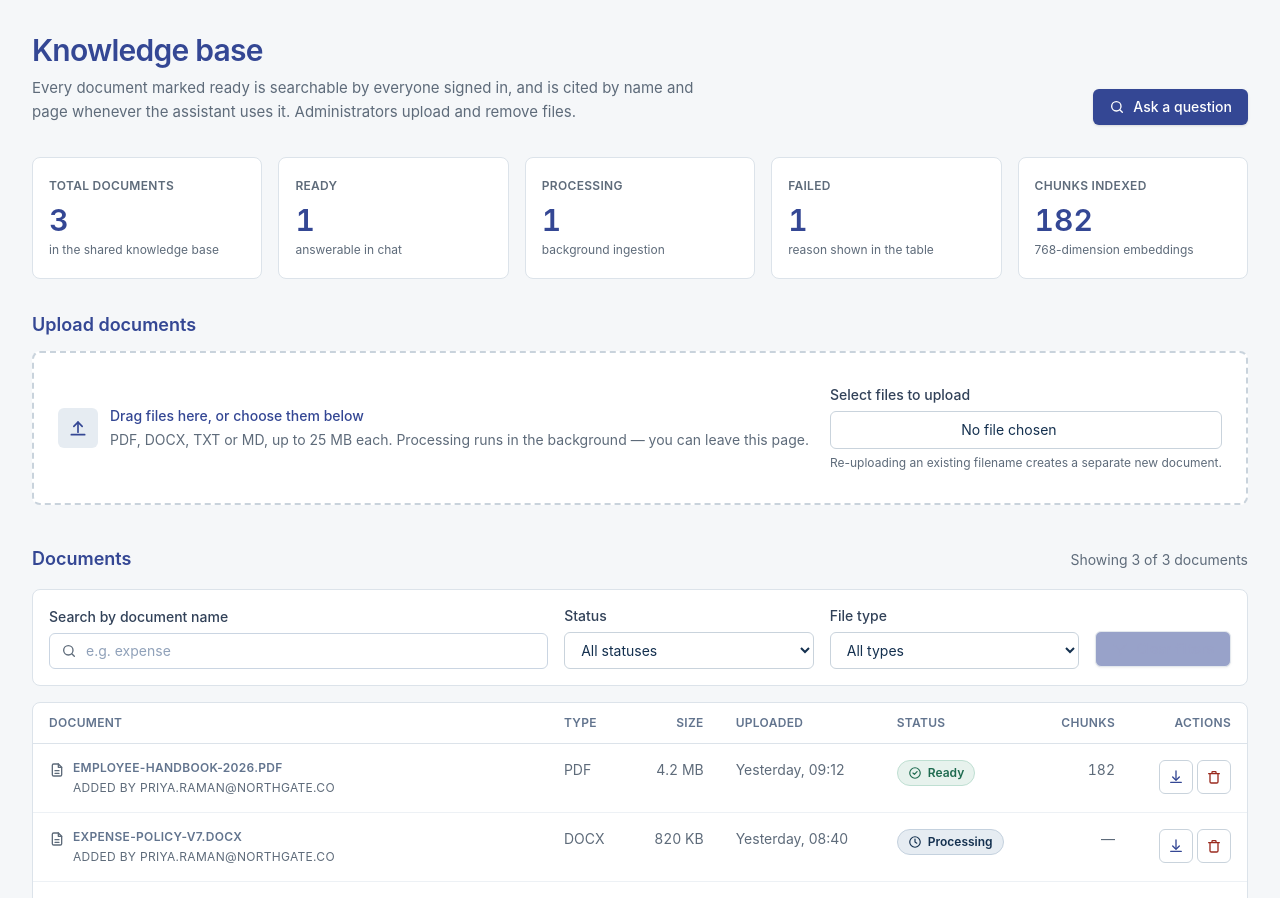
Test case: KnowledgeBase screen › AC-048: filtering by status and by file type narrows the list, and clearing restores it
The width and height of the screenshot is (1280, 898).
Expected: the text "Employee-Handbook-2026.pdf" is shown, top-left (73, 760), bottom-right (283, 775)
Select "Failed" in the dropdown labelled "Status": (689, 650) top-left (564, 632), bottom-right (814, 669)
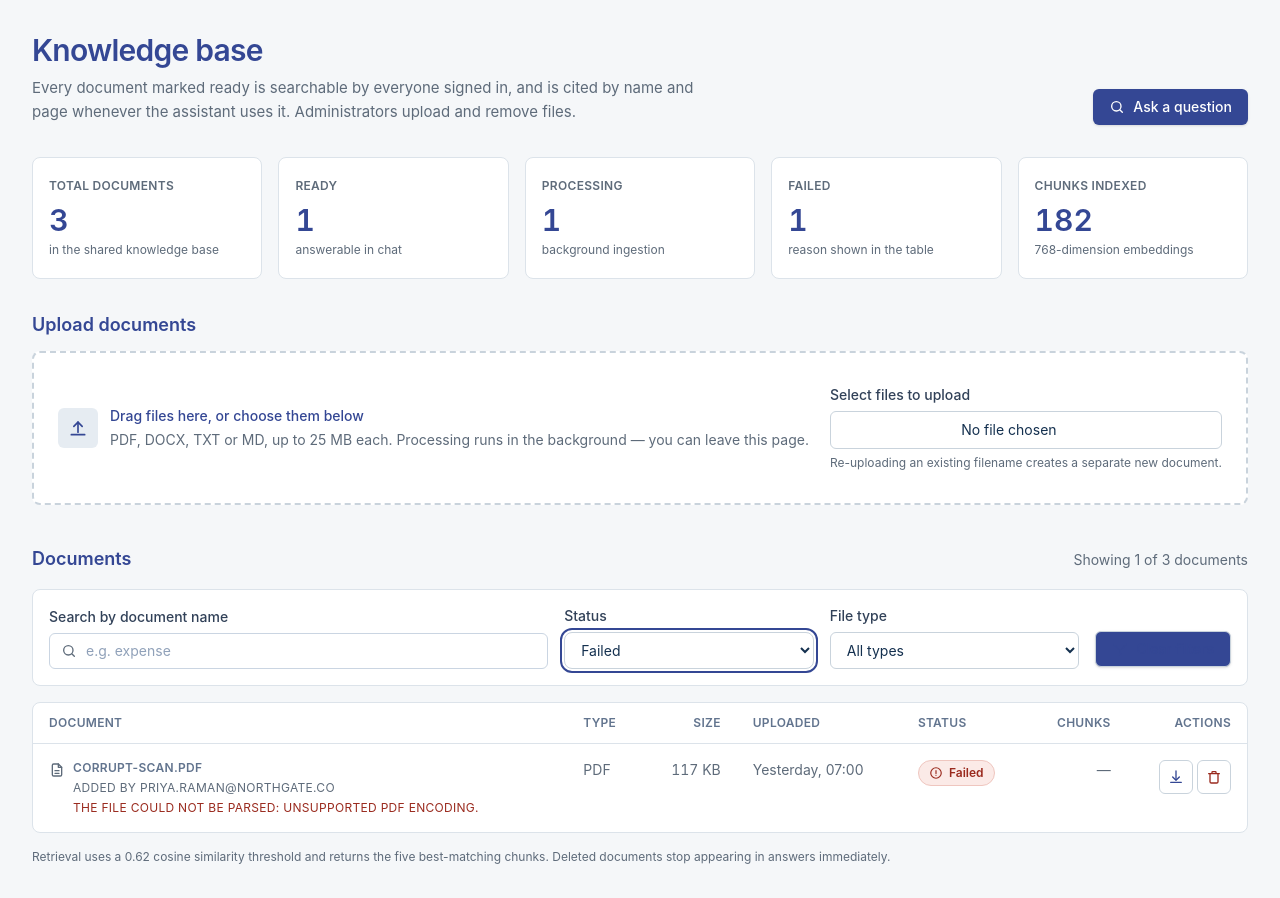
Expected: the text "Corrupt-Scan.pdf" is shown, top-left (73, 760), bottom-right (202, 775)
Result: the text "Employee-Handbook-2026.pdf" is gone
Result: the text "Expense-Policy-v7.docx" is gone
Select "All statuses" in the dropdown labelled "Status": (689, 650) top-left (564, 632), bottom-right (814, 669)
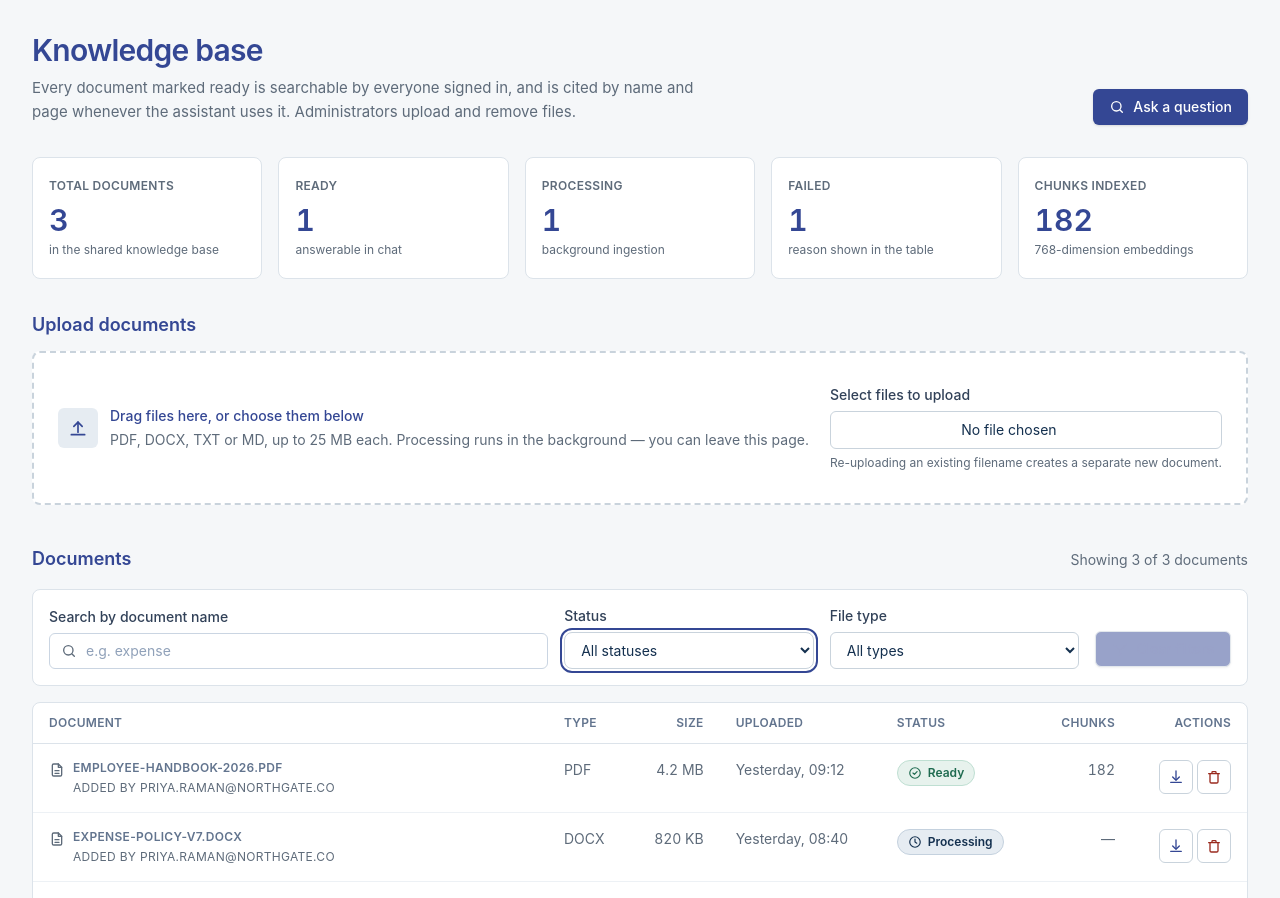
Select "DOCX" in the dropdown labelled "File type": (954, 650) top-left (830, 632), bottom-right (1079, 669)
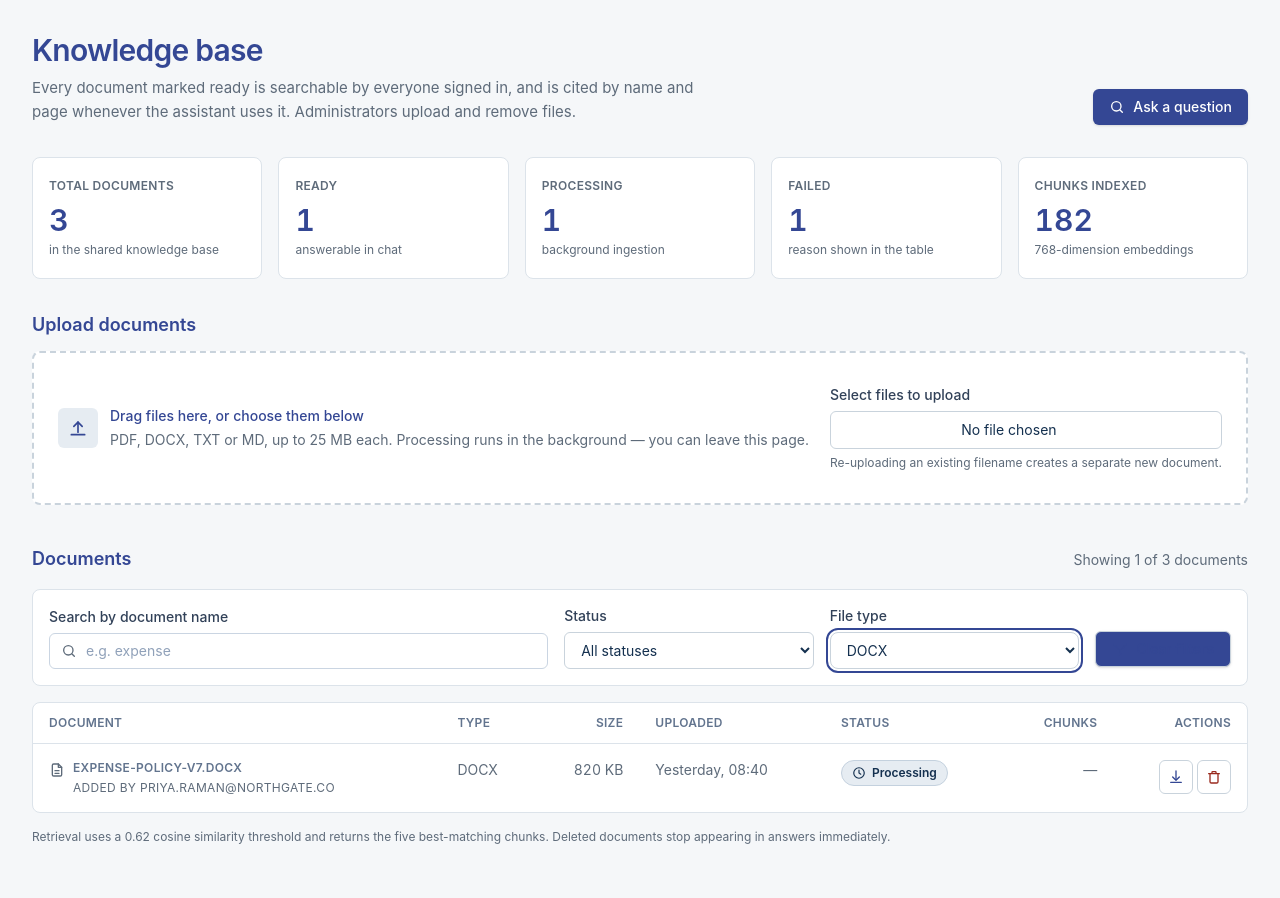
Expected: the text "Corrupt-Scan.pdf" is not shown
Result: the text "Expense-Policy-v7.docx" is shown at top-left (73, 760), bottom-right (242, 775)
Result: the text "Employee-Handbook-2026.pdf" is gone
Click the button "Clear filters": (1163, 649) top-left (1095, 631), bottom-right (1231, 667)
(page scrolled)
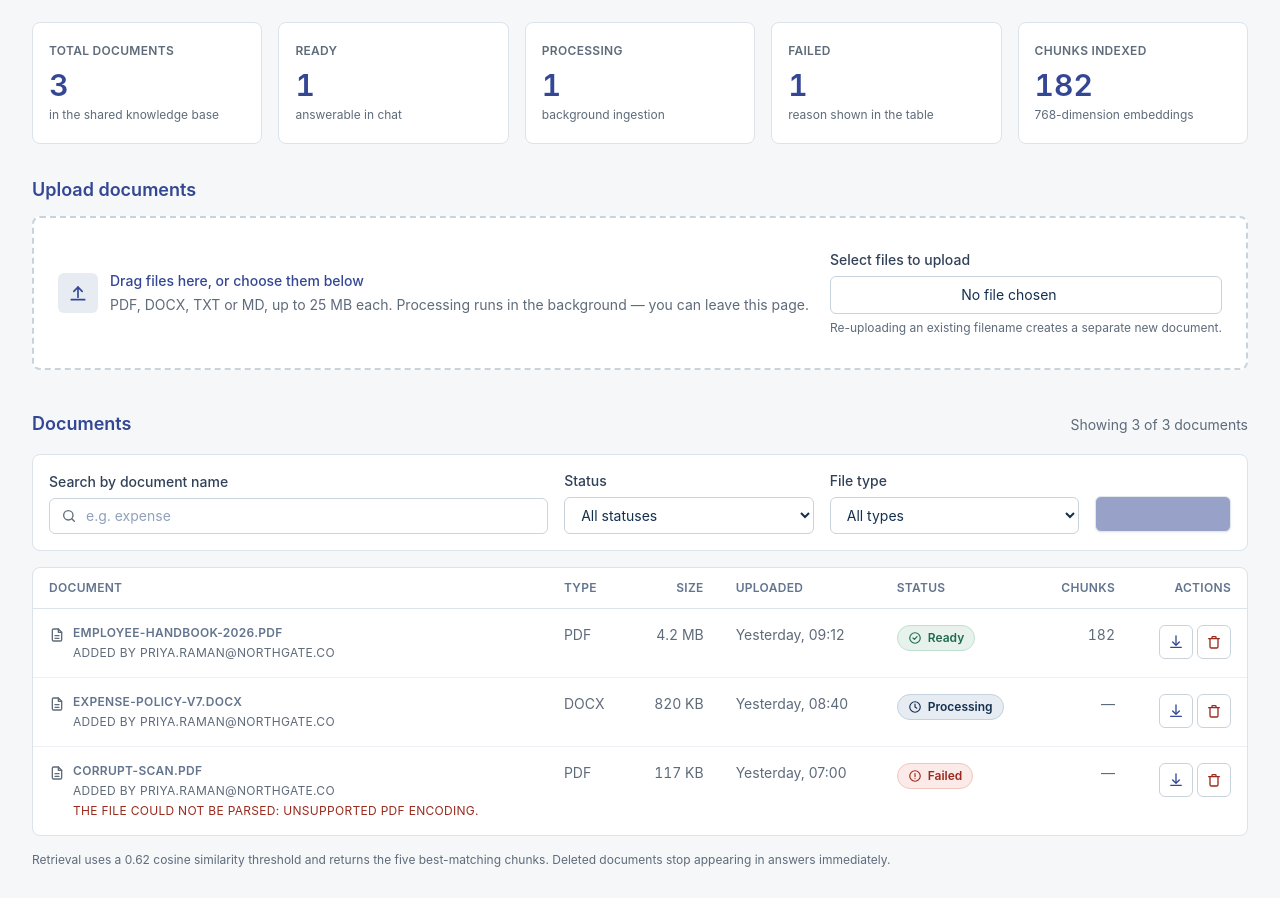
Result: the text "Expense-Policy-v7.docx" is shown at top-left (73, 694), bottom-right (242, 709)
Result: the text "Employee-Handbook-2026.pdf" is shown at top-left (73, 625), bottom-right (283, 640)
Result: the text "Corrupt-Scan.pdf" is shown at top-left (73, 763), bottom-right (202, 778)
